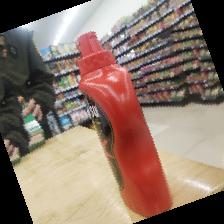Chinsu: (75, 29, 174, 219)
